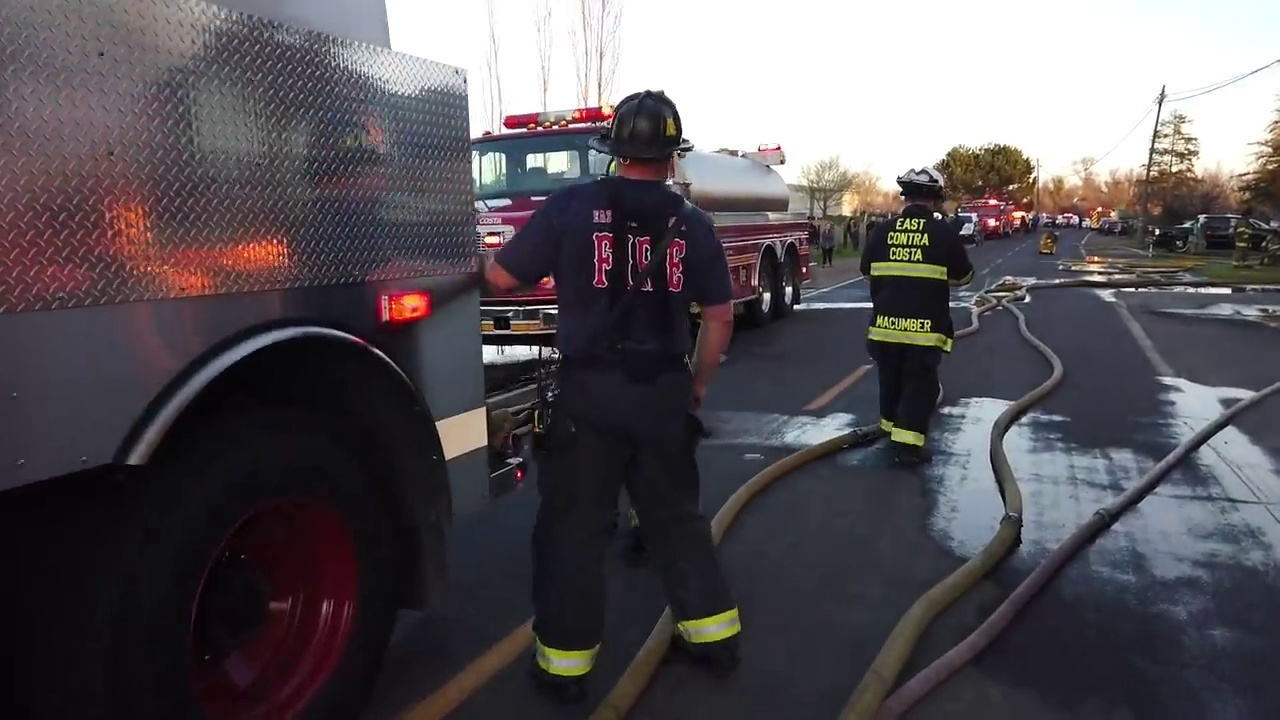fire: (1090, 205, 1105, 220)
